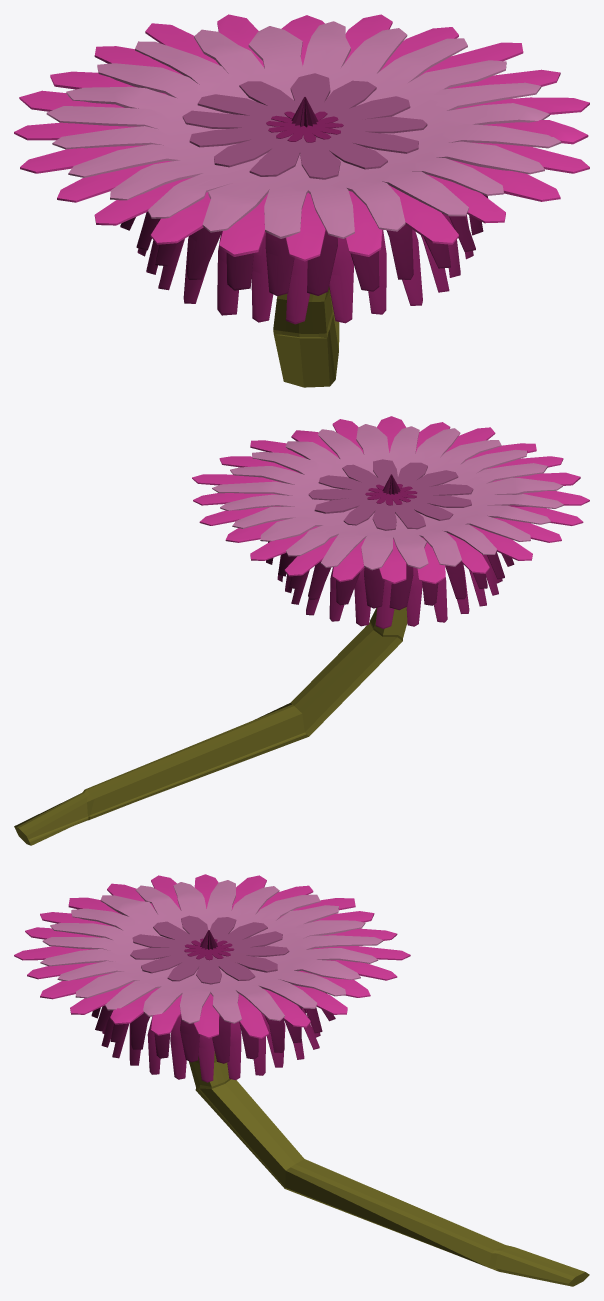
Rendered from PlatMuffin2.0.fbx.
3 views of the same model, one above another, from view 1: azimuth 30°, elevation 25°; view 2: azimuth 150°, elevation 25°; view 3: azimuth 270°, elevation 25° (orthographic). The views are drawn at different scales.
Visible parts, largest first — view 1: pCylinder2, pCylinder1, pCylinder3, pCylinder6, pCylinder5, pCube4, pCylinder4, polySurface2; view 2: pCylinder2, pCube4, pCylinder1, pCylinder3, pCylinder6, pCylinder5, pCylinder4; view 3: pCylinder2, pCube4, pCylinder1, pCylinder3, pCylinder6, pCylinder5, pCylinder4.
Part boxes in pixels (x1=…): pCylinder2: x1=46, y1=21, x2=561, y2=238; pCylinder1: x1=14, y1=14, x2=589, y2=261; pCylinder3: x1=182, y1=73, x2=427, y2=179; pCylinder6: x1=137, y1=214, x2=473, y2=324; pCylinder5: x1=120, y1=194, x2=488, y2=296; pCube4: x1=273, y1=287, x2=339, y2=387; pCylinder4: x1=266, y1=111, x2=343, y2=142; polySurface2: x1=291, y1=97, x2=318, y2=127; pCylinder2: x1=212, y1=424, x2=563, y2=570; pCube4: x1=14, y1=607, x2=407, y2=845; pCylinder1: x1=192, y1=416, x2=589, y2=584; pCylinder3: x1=308, y1=459, x2=473, y2=530; pCylinder6: x1=277, y1=554, x2=502, y2=628; pCylinder5: x1=266, y1=541, x2=514, y2=610; pCylinder4: x1=365, y1=484, x2=417, y2=505; pCylinder2: x1=40, y1=880, x2=383, y2=1023; pCube4: x1=189, y1=1051, x2=589, y2=1286; pCylinder1: x1=14, y1=874, x2=410, y2=1038; pCylinder3: x1=130, y1=915, x2=289, y2=984; pCylinder6: x1=101, y1=1008, x2=320, y2=1082; pCylinder5: x1=91, y1=993, x2=335, y2=1063; pCylinder4: x1=184, y1=938, x2=234, y2=960.
Size of the model in its own units: 1484 by 1066 by 2076.
